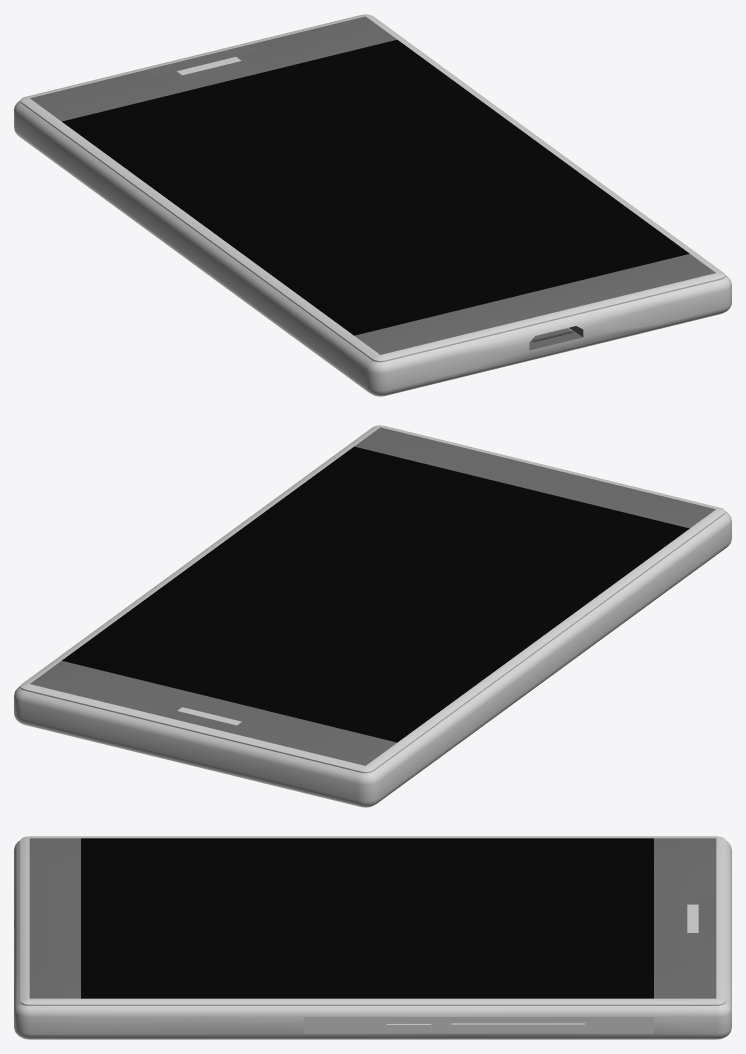
Rendered from osmartphone.FBX.
3 views of the same model, one above another, from view 1: azimuth 30°, elevation 25°; view 2: azimuth 150°, elevation 25°; view 3: azimuth 270°, elevation 25° (orthographic). The views are drawn at different scales.
Parts seen in each view (by area): view 1: ChamferBox001, Plane001, Plane002; view 2: ChamferBox001, Plane001, Plane002; view 3: ChamferBox001, Plane001, Plane002.
Part boxes in pixels (x1,y1,x2,y2): ChamferBox001: (14,14,731,396); Plane001: (175,59,263,89); Plane002: (144,45,256,76); ChamferBox001: (14,425,731,807); Plane001: (178,693,266,722); Plane002: (147,706,259,737); ChamferBox001: (14,836,731,1039); Plane001: (654,900,687,934); Plane002: (698,892,716,942).
Bounding box in the file's own units: 40.07 × 69.65 × 4.17.
Materials: 3 (3 with a texture image).
